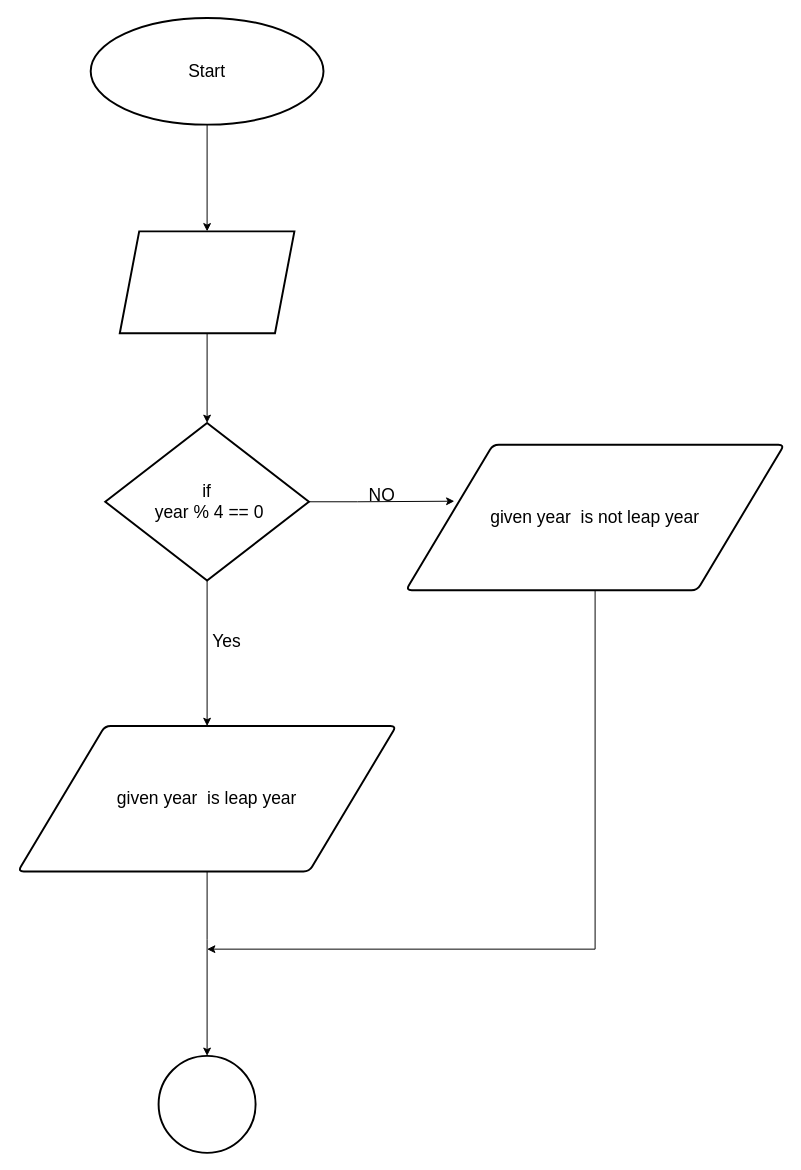
The diagram is 801 pixels wide and 1170 high, and some of its shapes have lost their labels. The shapes that lost their labels are listed below. From the top down, each one's box as (x1, y1, x2, y2) in pixels, then its label:
(118, 230, 295, 334): input year
(157, 1054, 256, 1153): Stop
